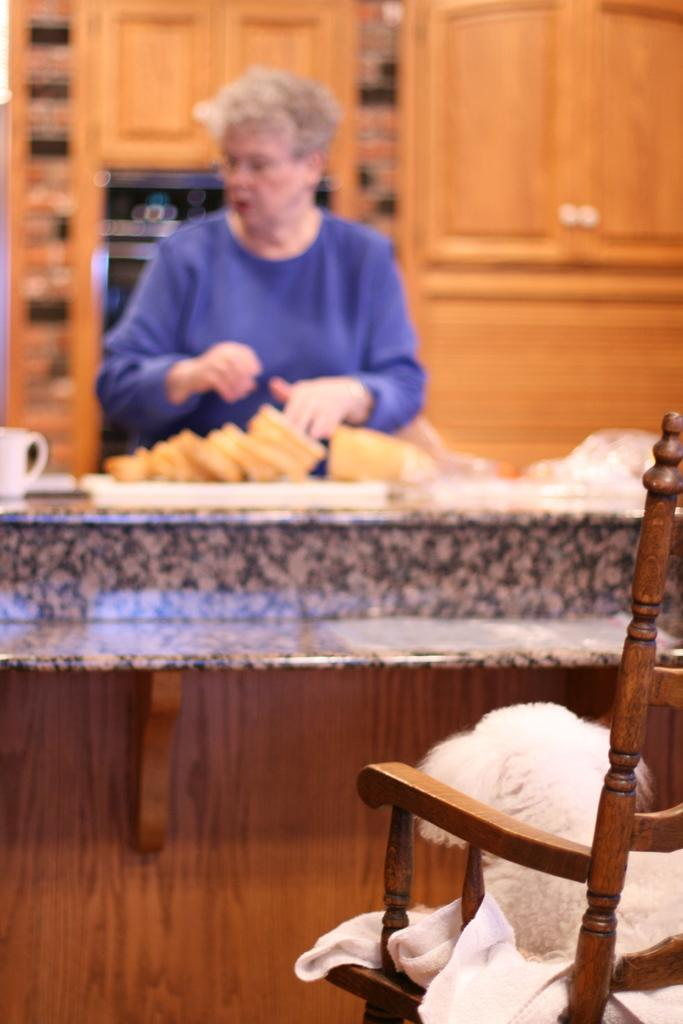Chair: (319, 410, 682, 1022)
